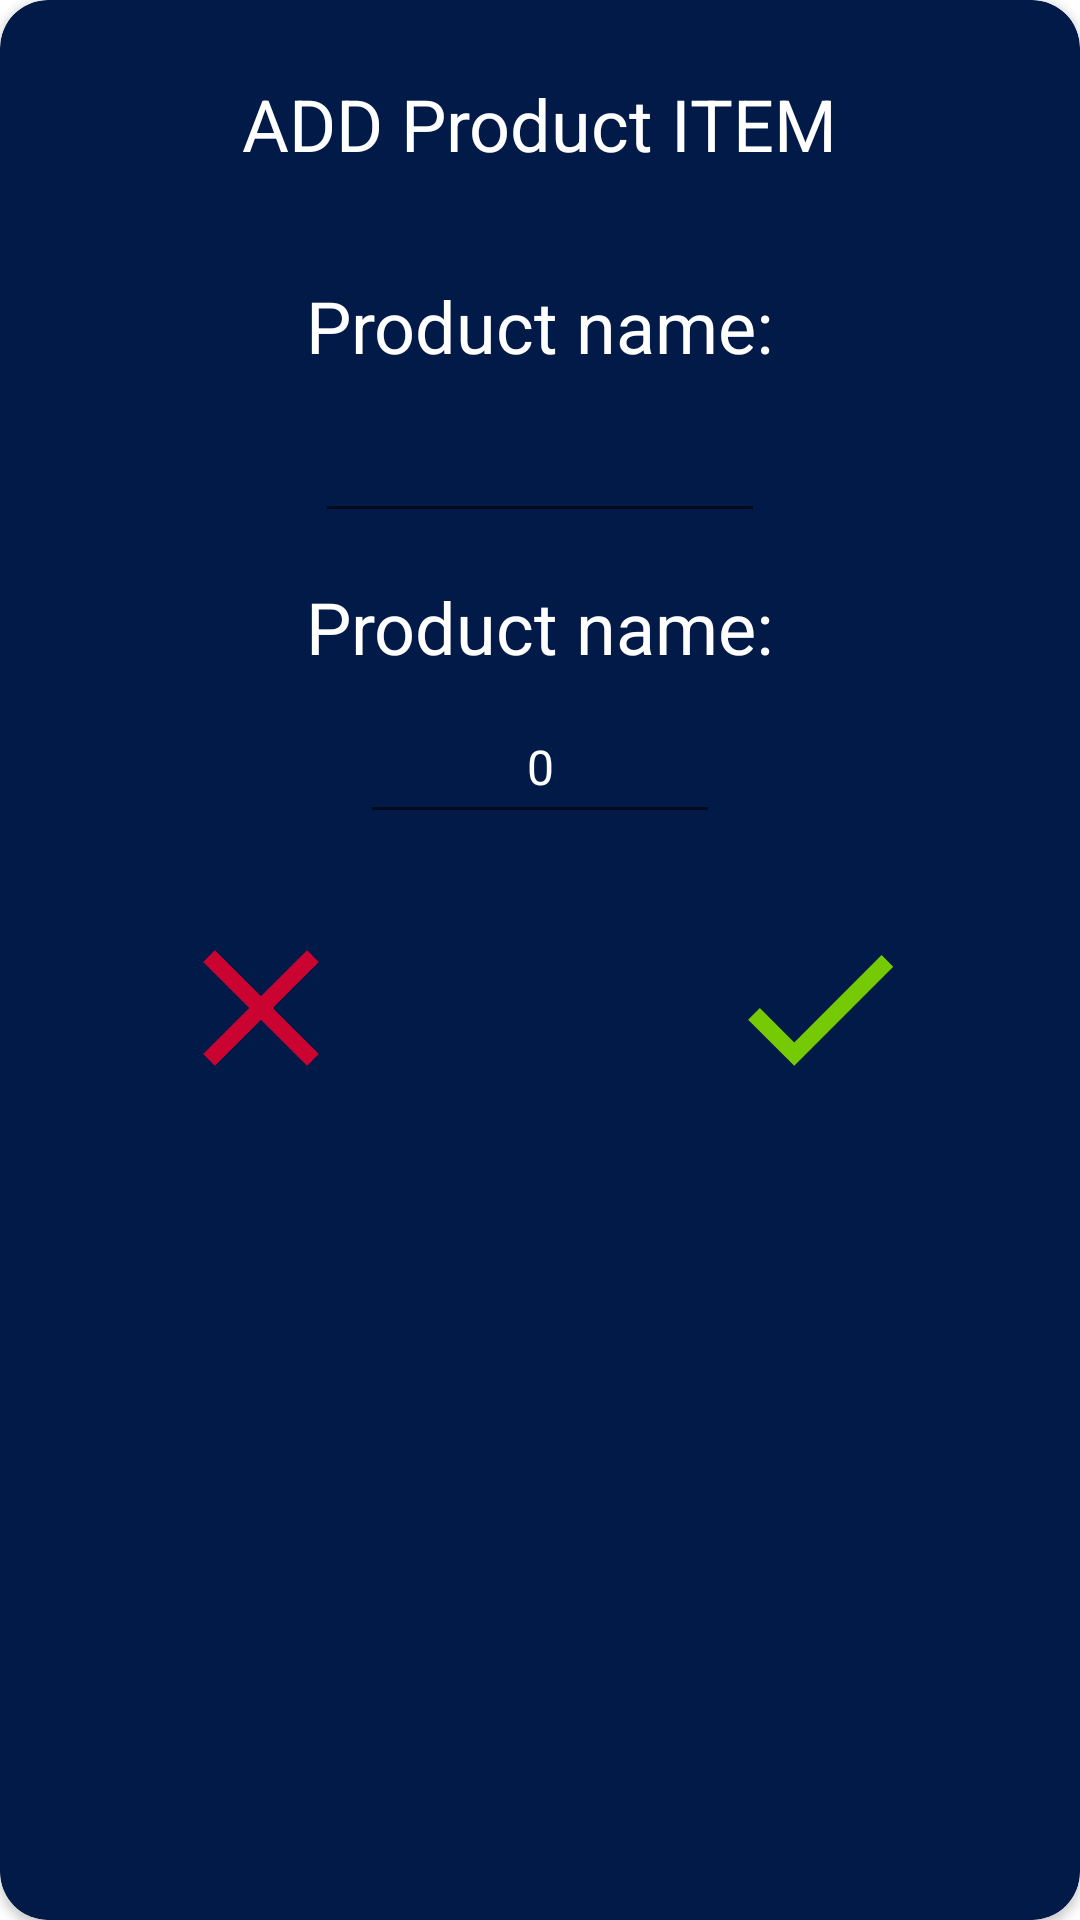

Point at icon controls on the screen. Image size 1080*1920, points as [x,y].
check: [820,1010]
clear: [261,1008]
